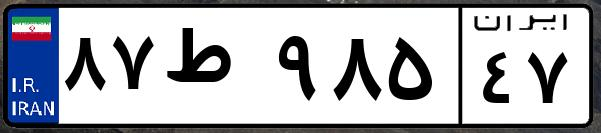4: (475, 38, 525, 113)
5: (385, 28, 445, 110)
7: (525, 38, 570, 115), (110, 28, 158, 98)
8: (330, 28, 385, 110), (57, 26, 110, 100)
9: (270, 28, 330, 110)
ط: (158, 20, 270, 120)
